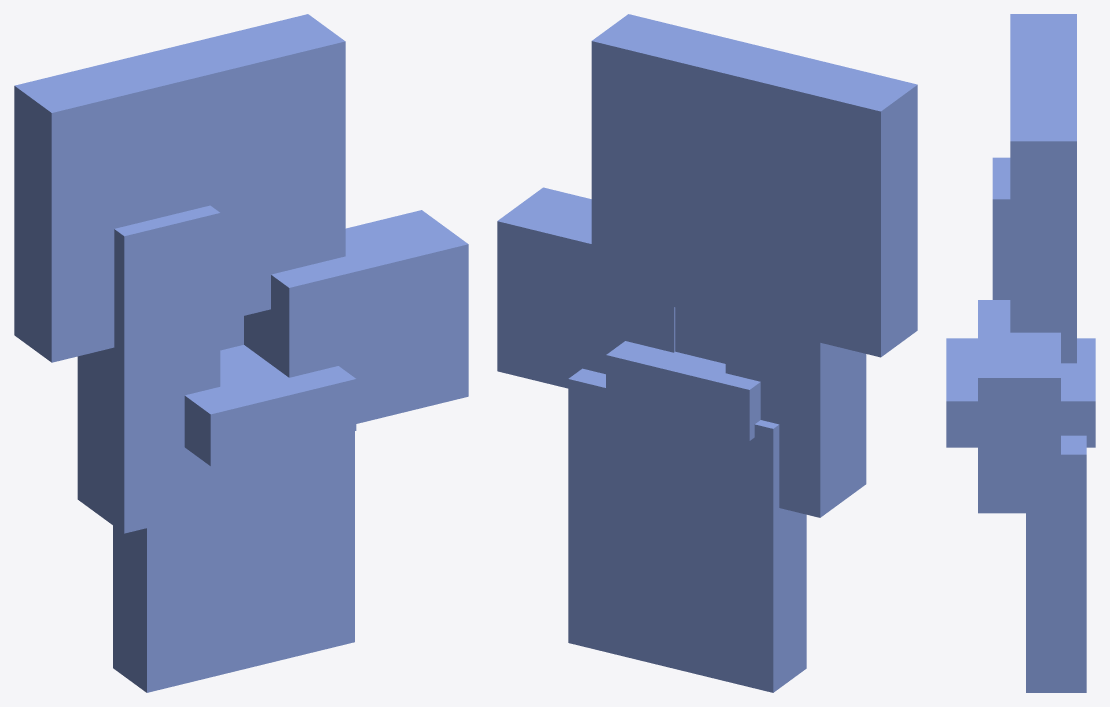
File: throughput.fbx
3 views of the same model, side by side, from view 1: azimuth 30°, elevation 25°; view 2: azimuth 150°, elevation 25°; view 3: azimuth 270°, elevation 25° (orthographic). The views are drawn at different scales.
Visible parts, largest first — view 1: Cube.044, Cube.045, Cube.043, Cube.042, Cube.041, Plane; view 2: Cube.044, Cube.045, Cube.042, Cube.043, Cube.041, Plane; view 3: Cube.044, Cube.042, Cube.045, Cube.041, Cube.043.
Part boxes in pixels (left/top/right/bottom): Cube.044: left=14, top=14, right=345, bottom=362; Cube.045: left=113, top=431, right=354, bottom=692; Cube.043: left=77, top=205, right=220, bottom=533; Cube.042: left=244, top=210, right=468, bottom=423; Cube.041: left=184, top=345, right=356, bottom=466; Plane: left=220, top=316, right=243, bottom=350; Cube.044: left=591, top=14, right=917, bottom=357; Cube.045: left=568, top=368, right=806, bottom=692; Cube.042: left=497, top=187, right=675, bottom=388; Cube.043: left=725, top=320, right=866, bottom=517; Cube.041: left=606, top=341, right=760, bottom=440; Plane: left=675, top=307, right=725, bottom=363; Cube.044: left=1010, top=14, right=1076, bottom=363; Cube.042: left=978, top=300, right=1060, bottom=513; Cube.045: left=1026, top=435, right=1086, bottom=692; Cube.041: left=946, top=338, right=1095, bottom=447; Cube.043: left=992, top=157, right=1010, bottom=299.
Bounding box in the file's own units: 464 × 681 × 170.
